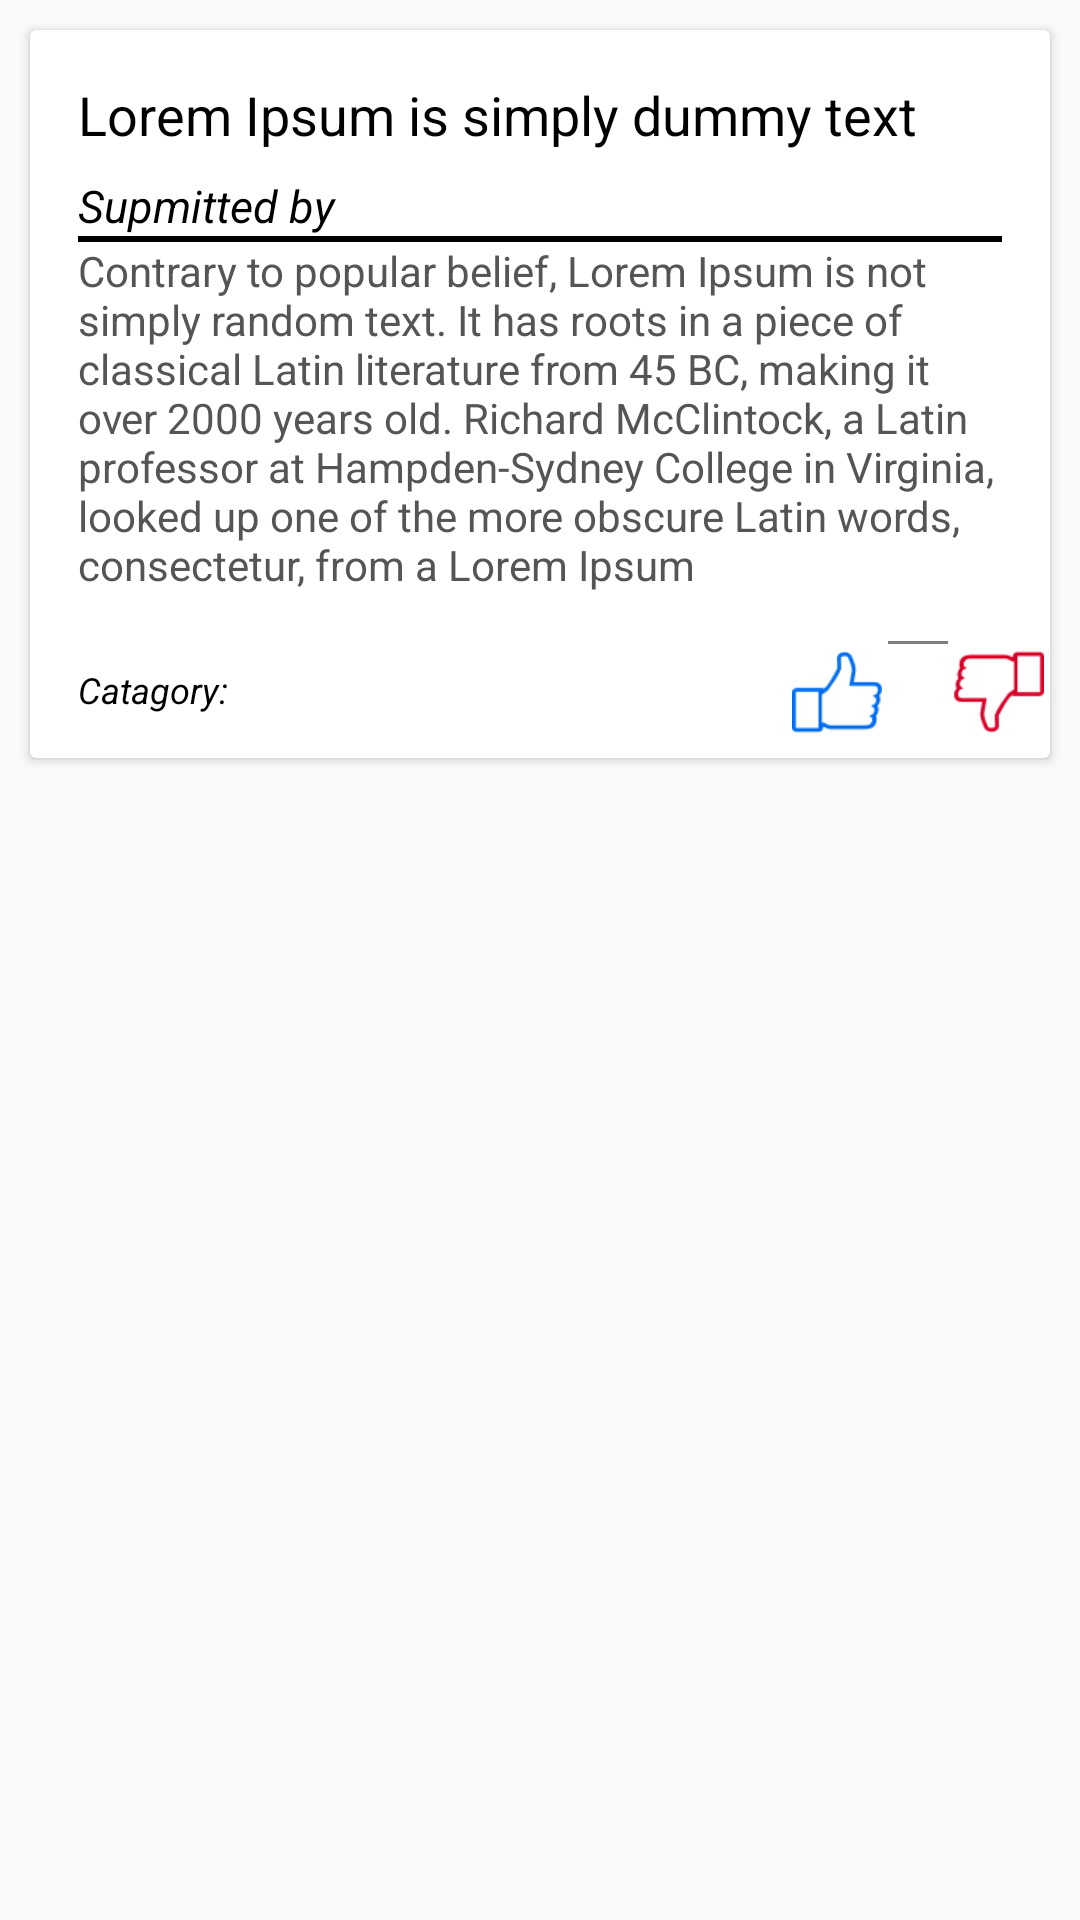

Point at icon controls on the screen. Image size 1080px x 1920px, points as point (x, y).
thumb down: point (999, 692)
thumb up: point (837, 692)
